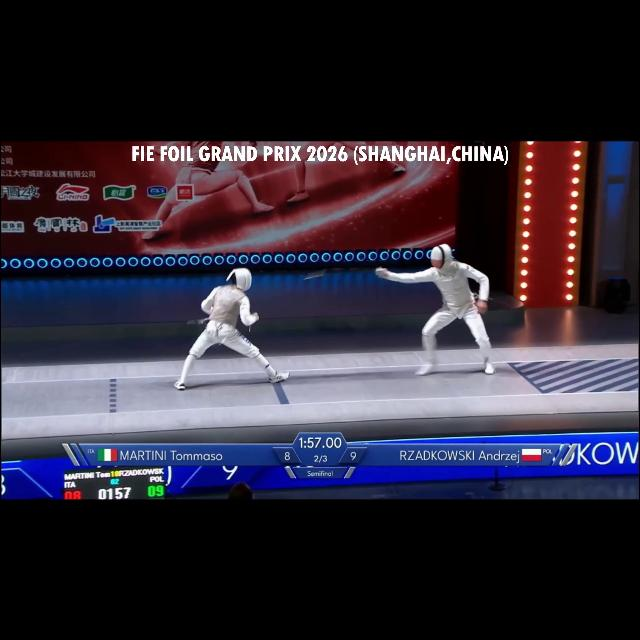blade: (302, 266, 388, 282)
